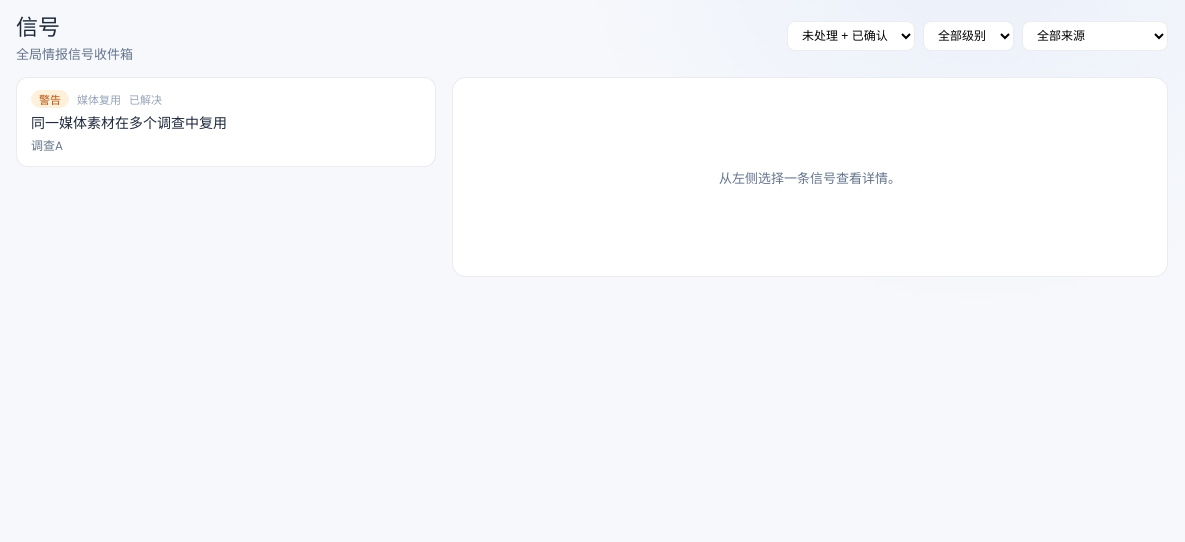
SignalsView (V3 §59) › shows 条件已消失 when inactive and resolved
Click the button with class "sigview__card". click: [226, 122]
box: [16, 77, 436, 167]
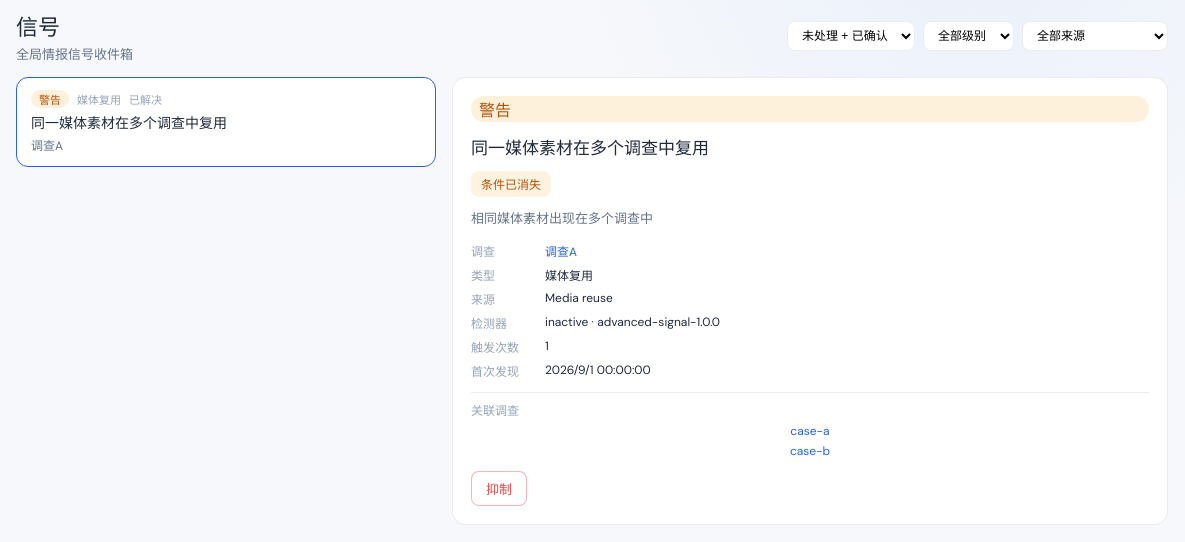
Check: the text "条件已消失" is shown, box [471, 171, 551, 197]
Check: the text "inactive" is shown, box [545, 314, 720, 330]
